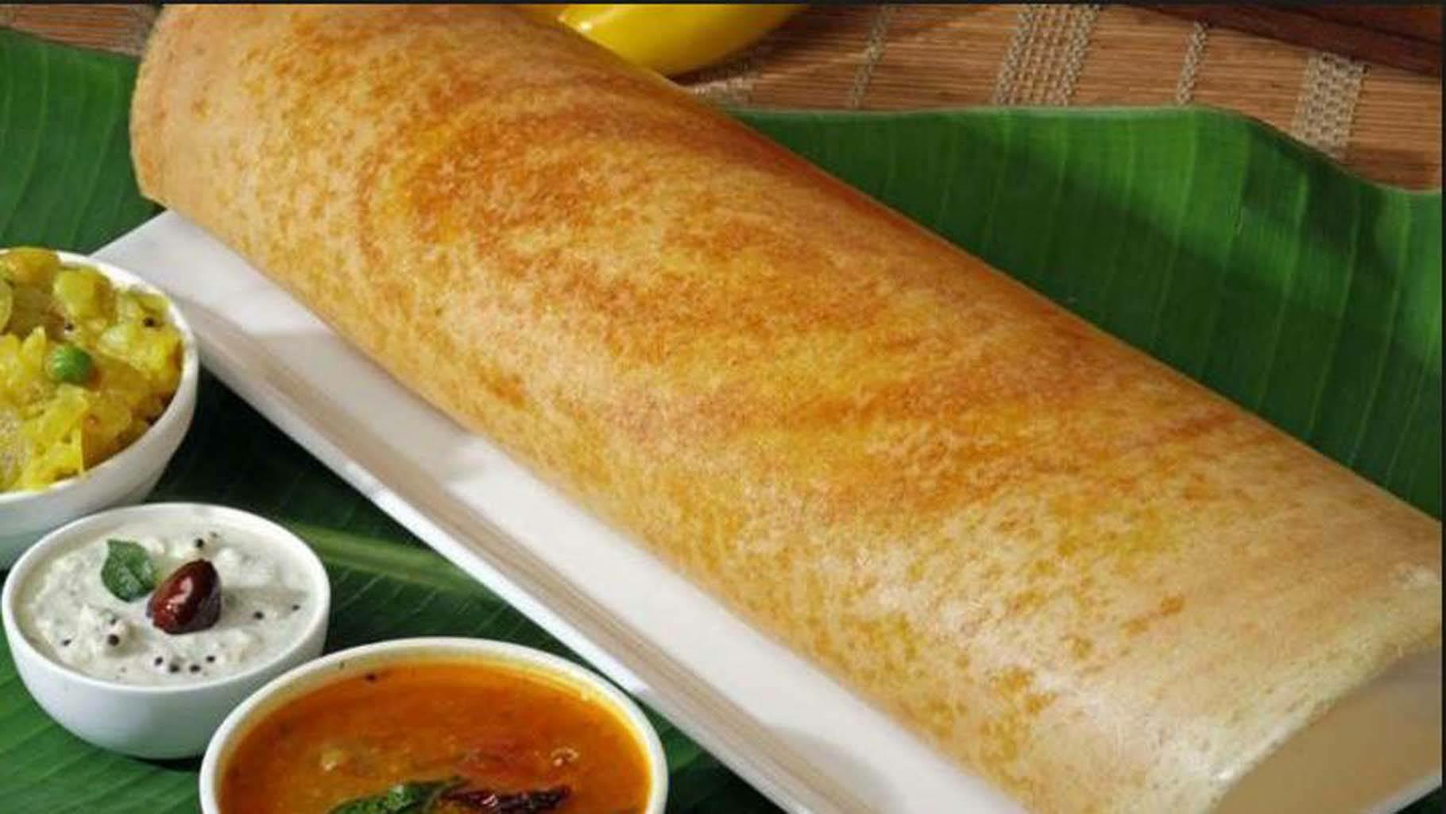CoconutChutney: (13, 524, 317, 687)
Dosa: (130, 6, 1442, 814)
